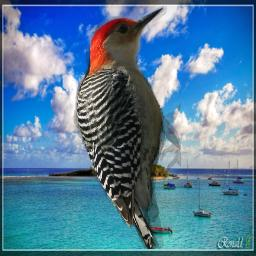Woodpecker: (73, 6, 181, 249)
